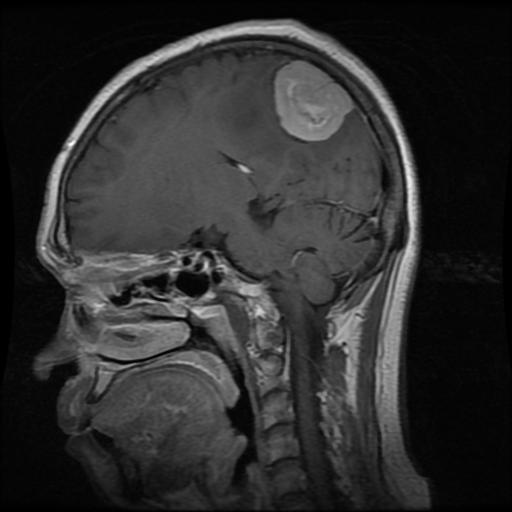Menigiomia_tumour: (275, 60, 352, 141)
